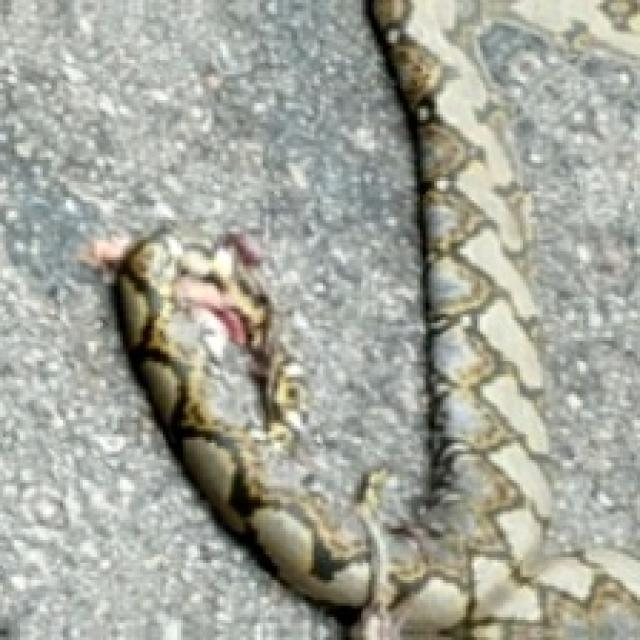reticulated python: (117, 0, 637, 637)
